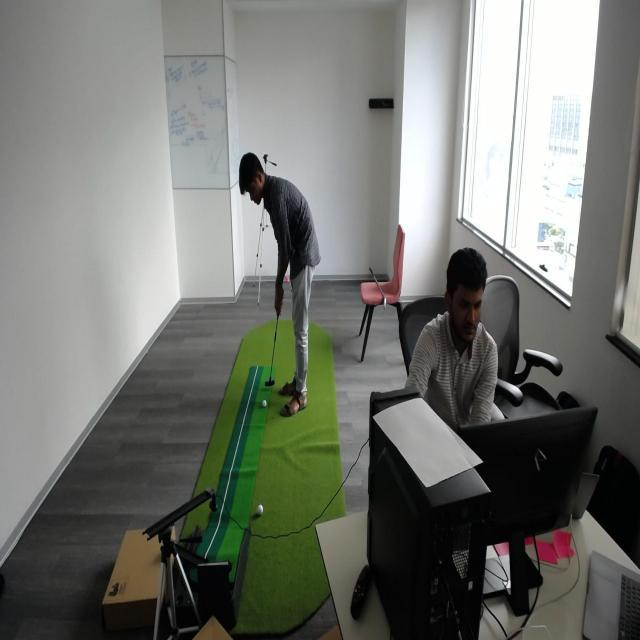GolfBall: (254, 497, 266, 525), (258, 397, 270, 414)
